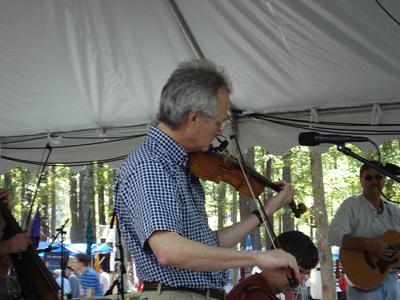person: (114, 65, 302, 300)
